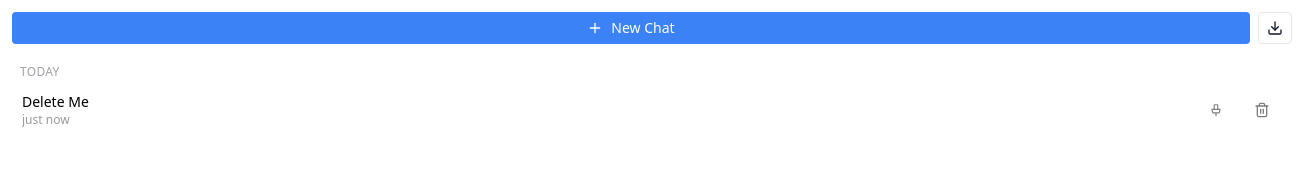
Test case: CH-5: Delete with confirmation › shows confirmation when delete button is clicked
Expected: the text "Delete Me" is shown, [22,92,89,111]
Click the button with test id "delete-conversation-conv-del".
click(1262, 110)  # box [1240,88,1284,132]
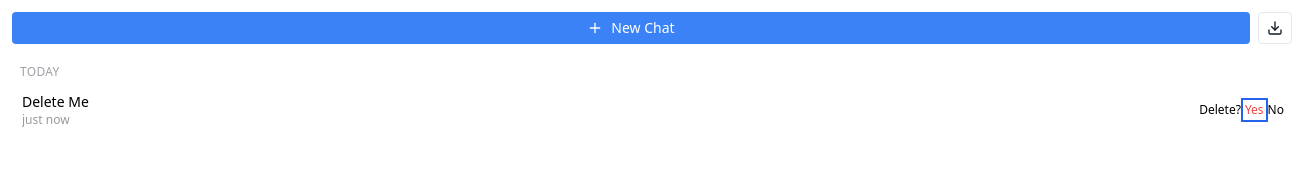
Expected: the text "Delete?" is shown, [1199,102,1241,118]
Expected: the text "Yes" is shown, [1245,102,1264,118]
Expected: the button "No" is shown, [1268,102,1284,118]
